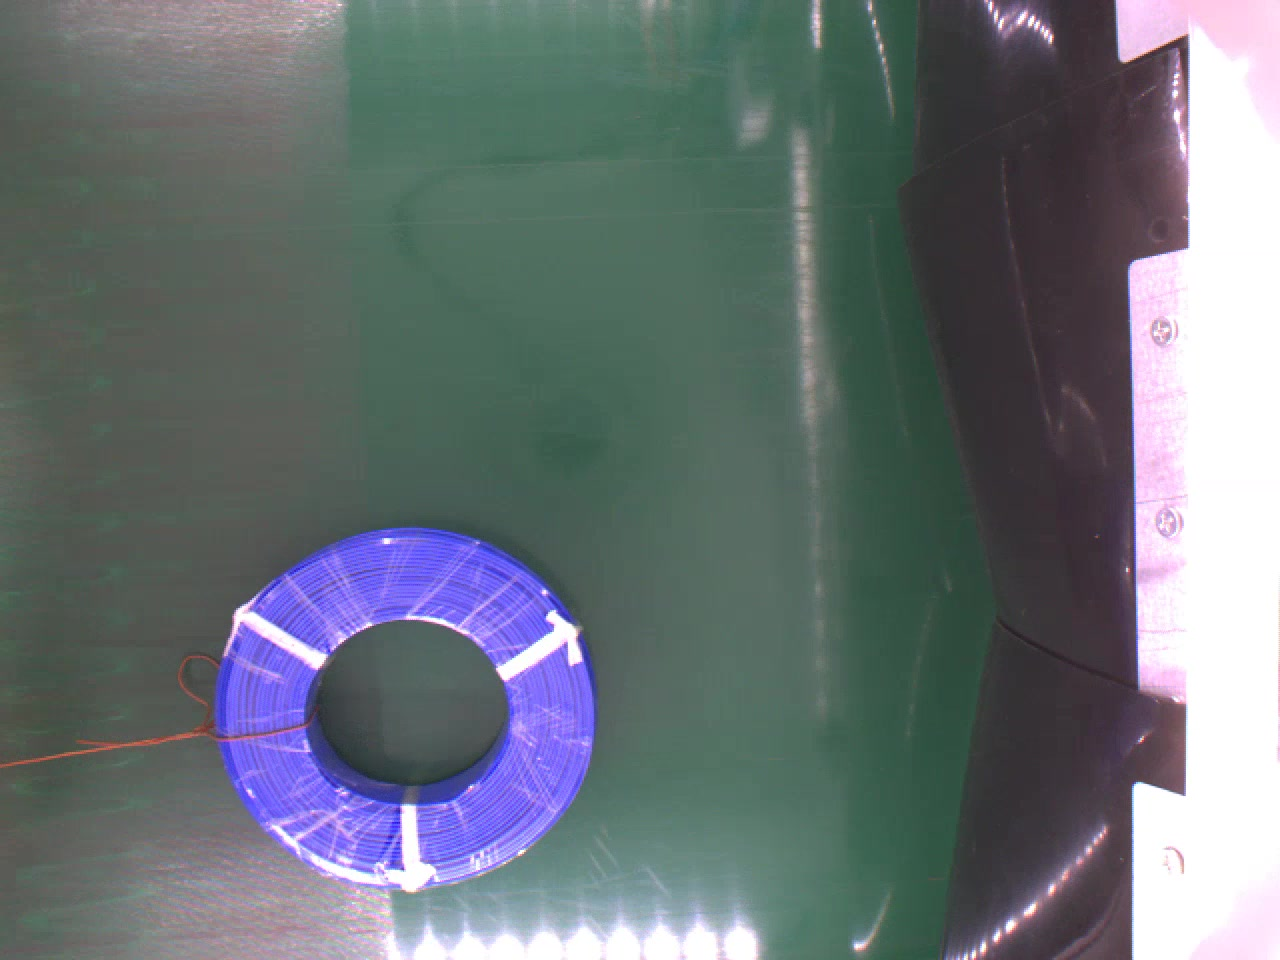blue: (210, 522, 593, 894)
